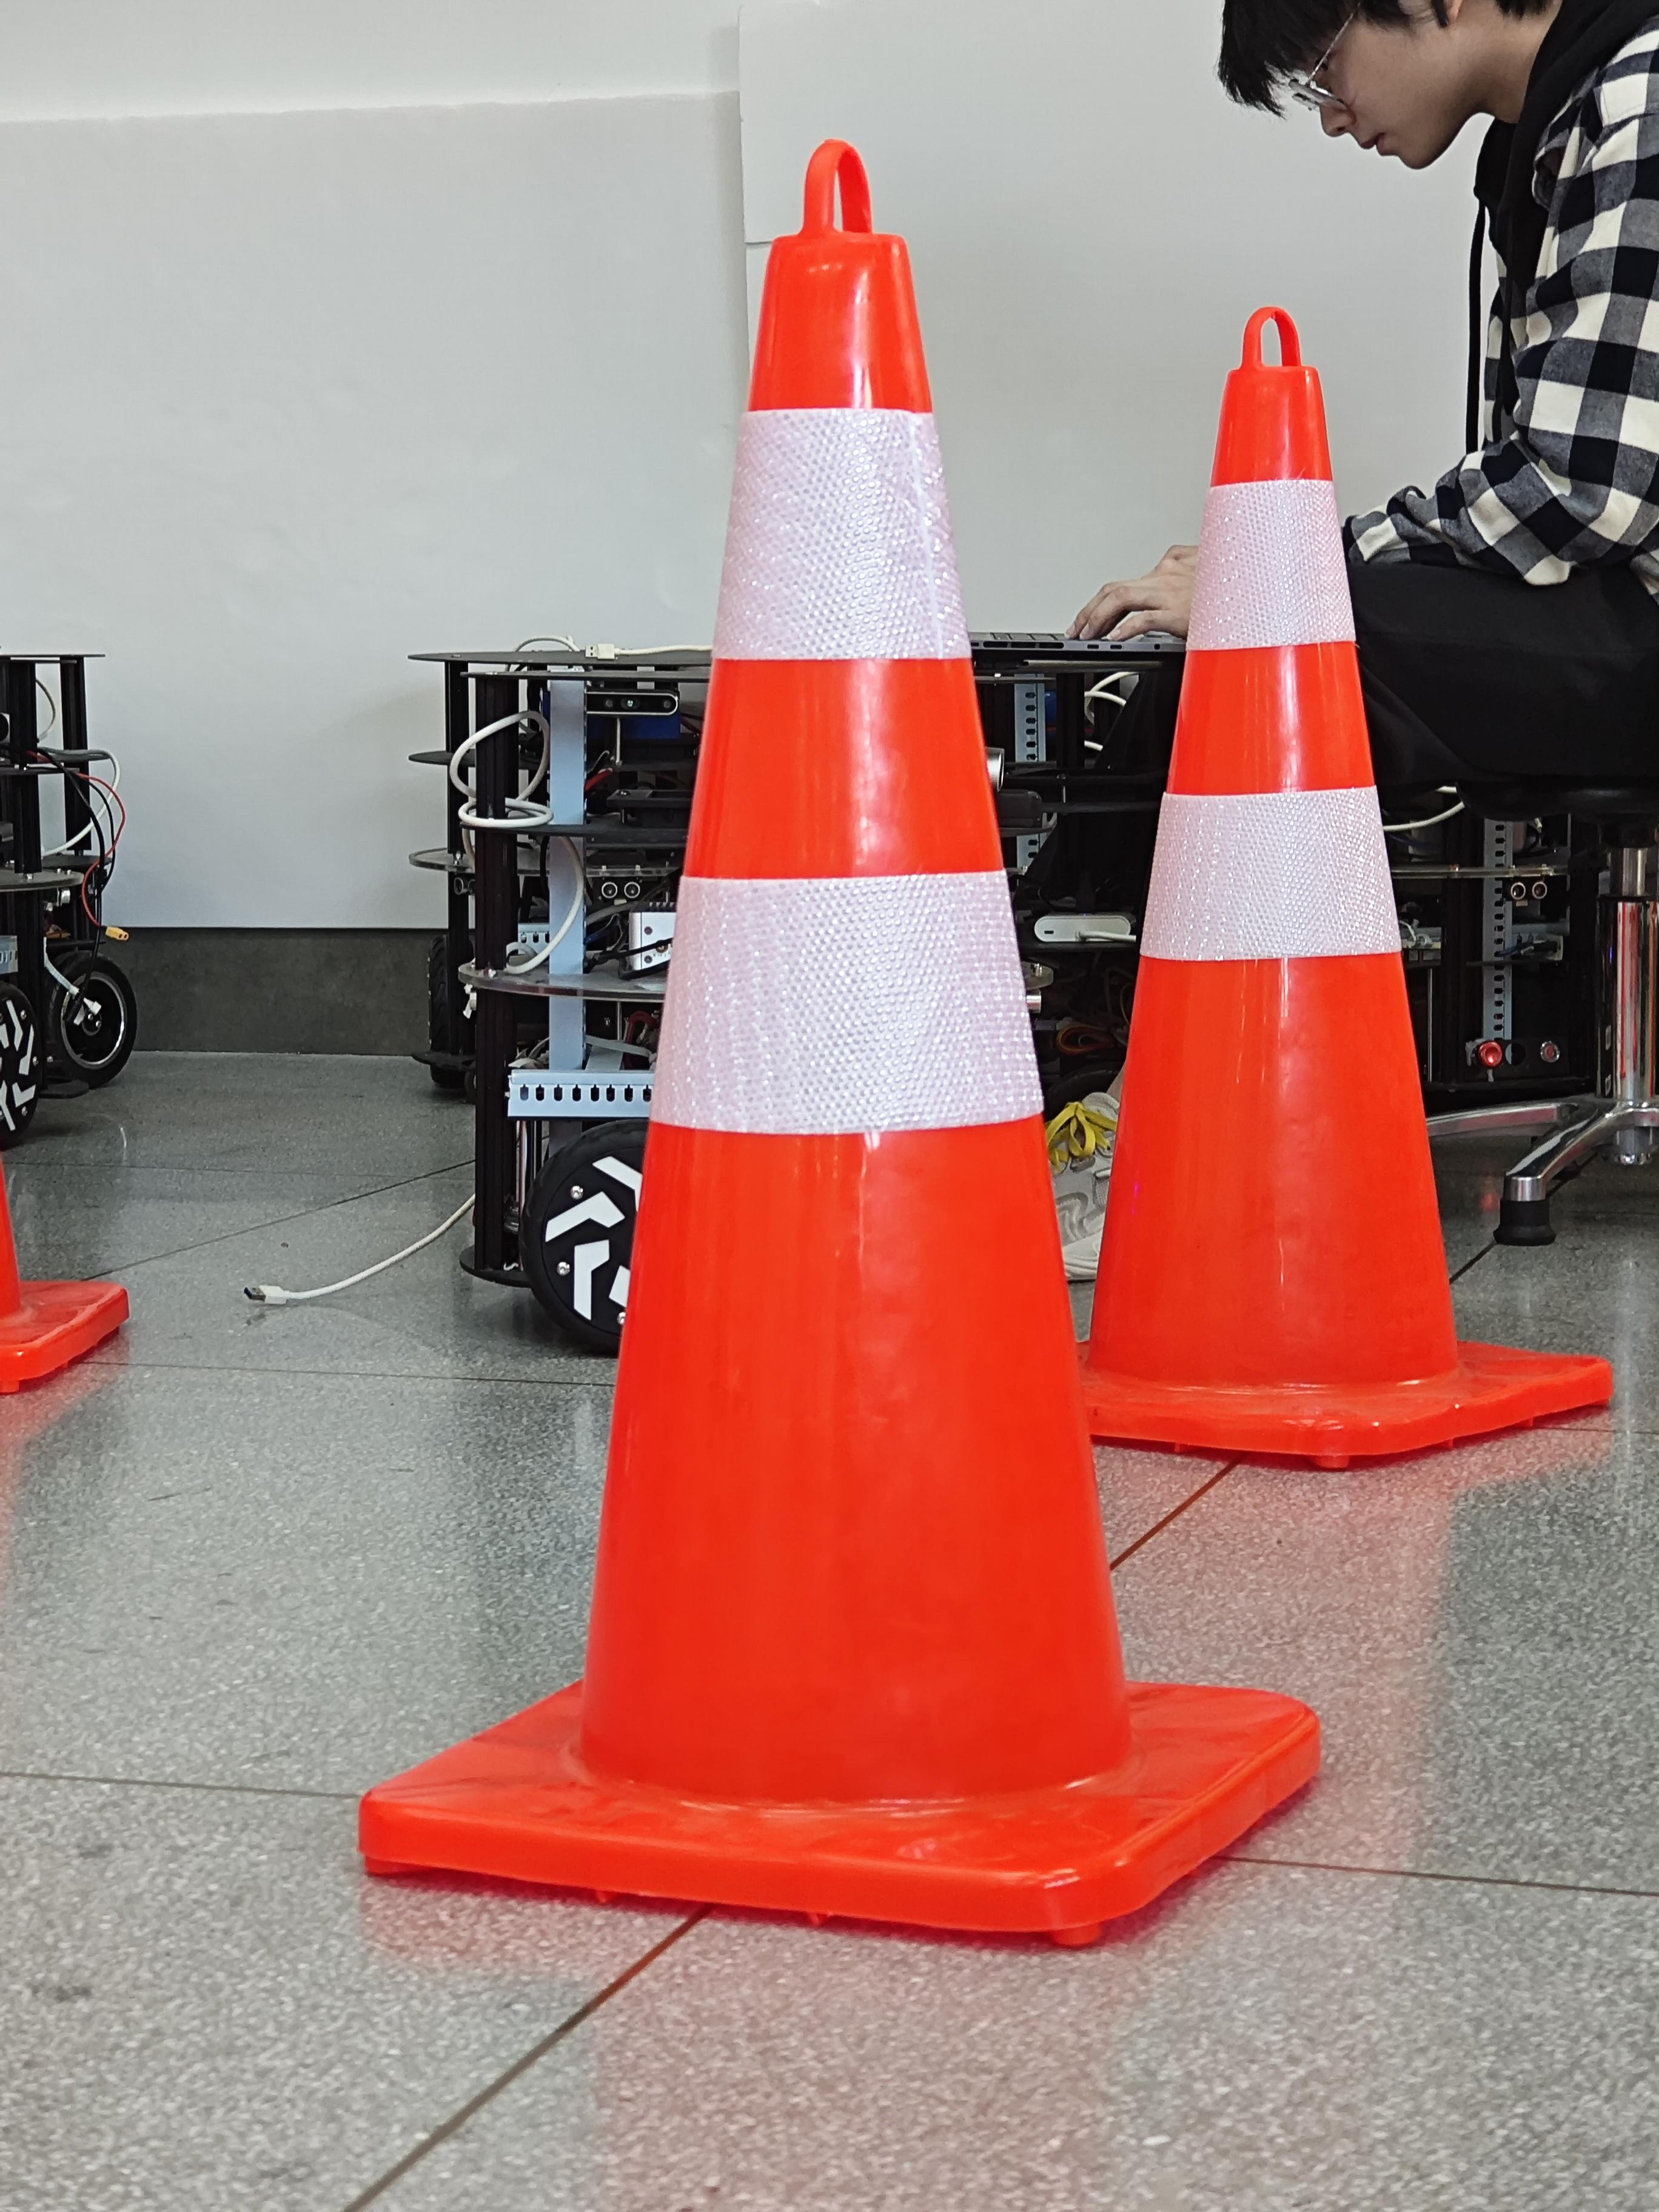cone: (361, 145, 1317, 1940), (1084, 310, 1612, 1465), (0, 1176, 129, 1393)
